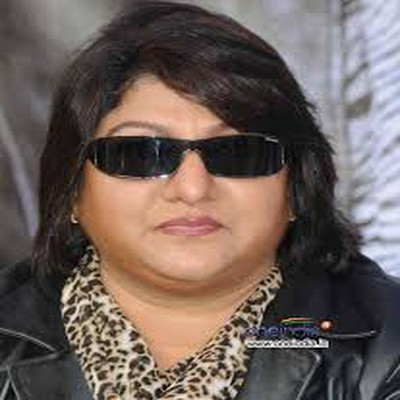eywear: (69, 100, 302, 190)
